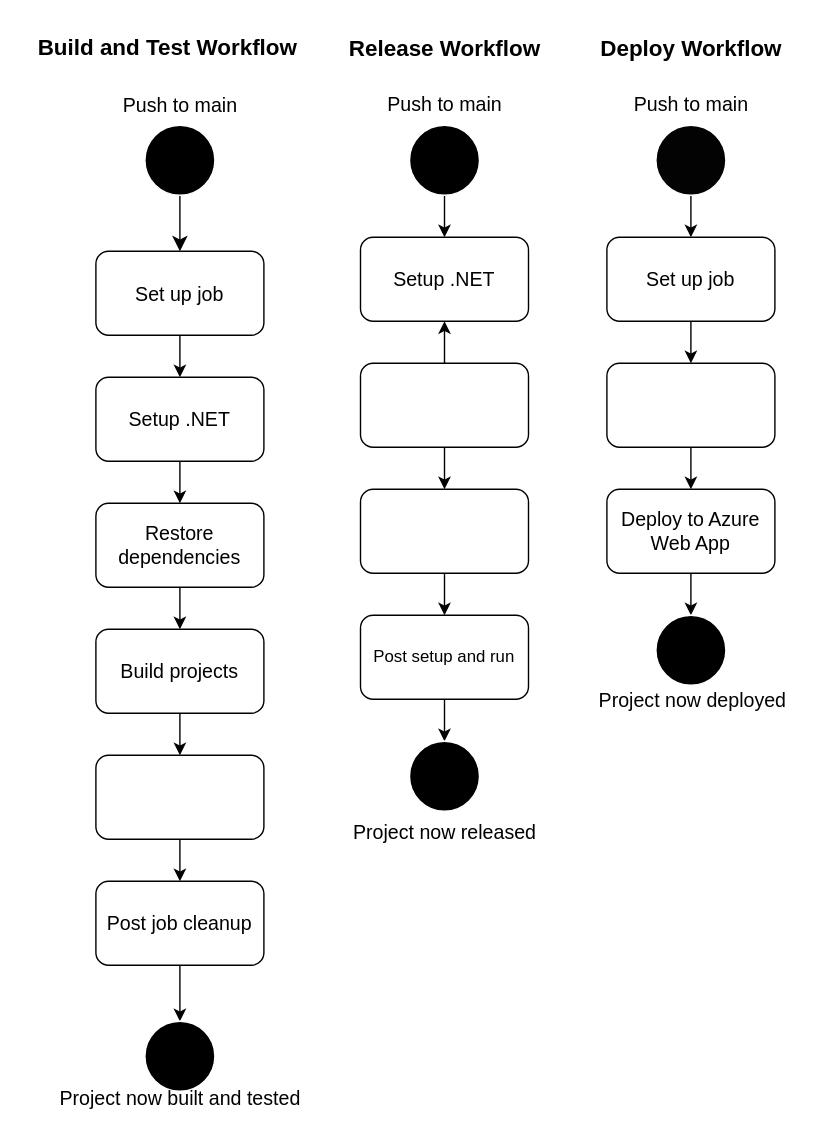
This 822x1141 diagram has some shape labels left out. The shapes that lost their labels are listed below. From the top down, each one's centre as x and y in pixels, then its label:
(443,404): .NET publish
(690,404): Download artifact from build
(443,530): Upload artifact
(179,796): Run tests
